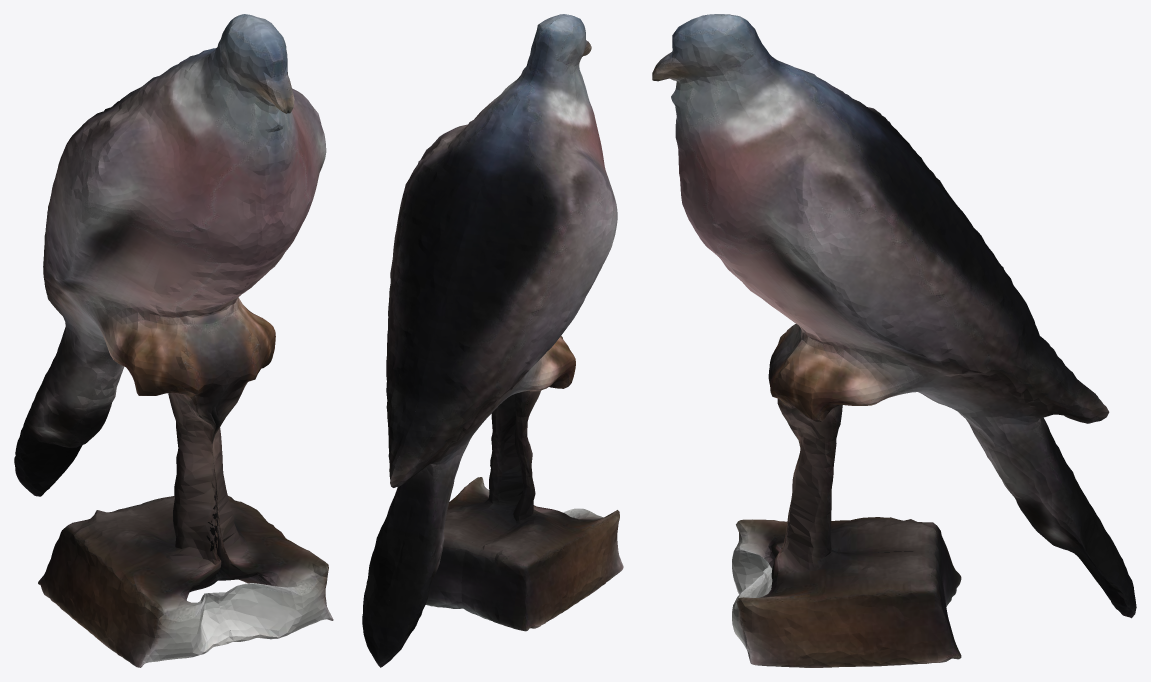
3 renders of one model, left to right at view 1: azimuth 30°, elevation 25°; view 2: azimuth 150°, elevation 25°; view 3: azimuth 270°, elevation 25°, orthographic. The views are drawn at different scales.
Visible parts, largest first — view 1: Mesh_0.001; view 2: Mesh_0.001; view 3: Mesh_0.001.
Boxes of the visible parts, box(x1,y1,x2,y2) form: Mesh_0.001: box(14, 14, 333, 667); Mesh_0.001: box(362, 14, 623, 667); Mesh_0.001: box(652, 14, 1136, 667).
Bounding box in the file's own units: 0.1628 × 0.419 × 0.3016.
Materials: 1 (1 with a texture image).
